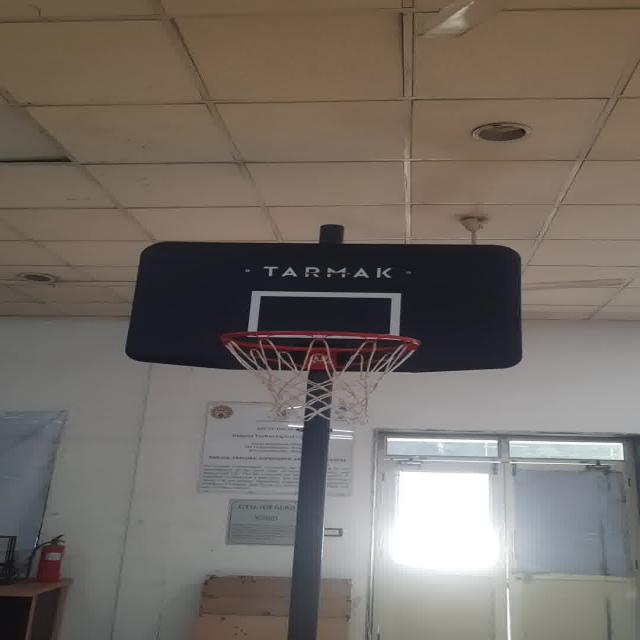objects: (228, 325, 425, 419), (254, 294, 398, 338)
